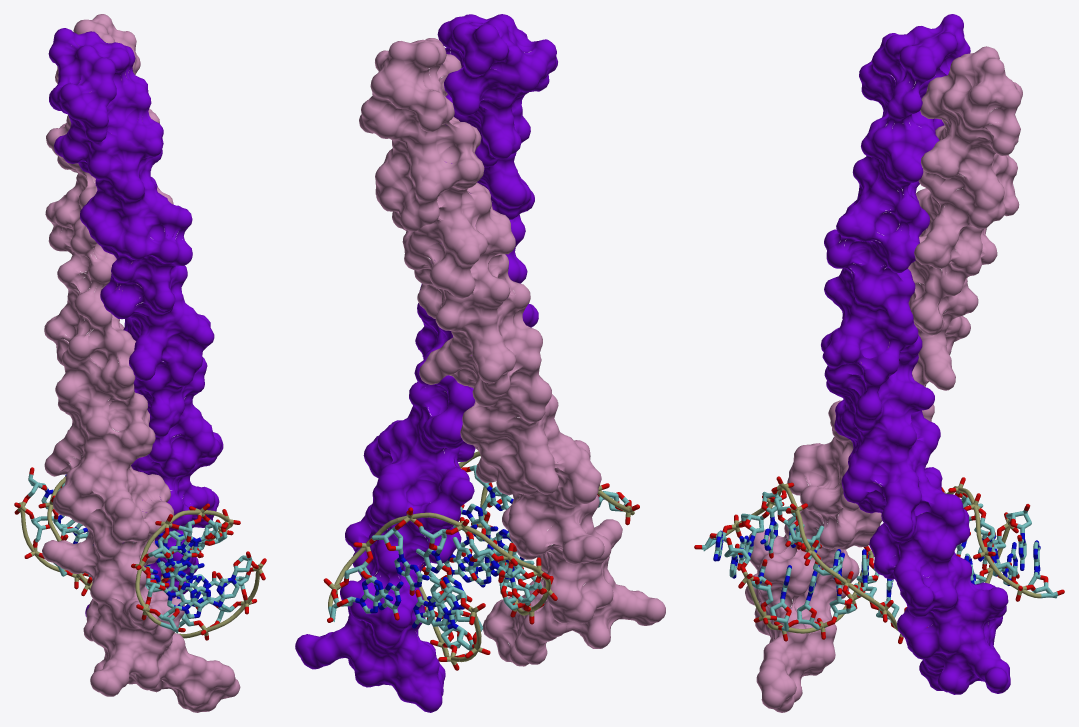
Rendered from dna-tubes-licorice--protein-surfaces.glb.
3 renders of one model, left to right at view 1: azimuth 30°, elevation 25°; view 2: azimuth 150°, elevation 25°; view 3: azimuth 270°, elevation 25°, orthographic. The views are drawn at different scales.
Visible parts, largest first — view 1: vmd_mol0_rep5, vmd_mol0_rep6, vmd_mol0_rep0, vmd_mol0_rep1; view 2: vmd_mol0_rep5, vmd_mol0_rep6, vmd_mol0_rep0, vmd_mol0_rep1; view 3: vmd_mol0_rep6, vmd_mol0_rep5, vmd_mol0_rep0, vmd_mol0_rep1.
Boxes of the visible parts, bbox=[...] form: vmd_mol0_rep5: bbox=[42, 14, 240, 712]; vmd_mol0_rep6: bbox=[48, 28, 223, 616]; vmd_mol0_rep0: bbox=[14, 467, 266, 640]; vmd_mol0_rep1: bbox=[18, 476, 262, 638]; vmd_mol0_rep5: bbox=[359, 38, 665, 666]; vmd_mol0_rep6: bbox=[295, 14, 557, 712]; vmd_mol0_rep0: bbox=[323, 464, 639, 670]; vmd_mol0_rep1: bbox=[328, 451, 634, 662]; vmd_mol0_rep6: bbox=[821, 14, 1010, 694]; vmd_mol0_rep5: bbox=[745, 46, 1022, 712]; vmd_mol0_rep0: bbox=[694, 476, 1064, 643]; vmd_mol0_rep1: bbox=[703, 485, 1057, 633].
Size of the model in its own units: 0.6736 by 1.93 by 0.974.
